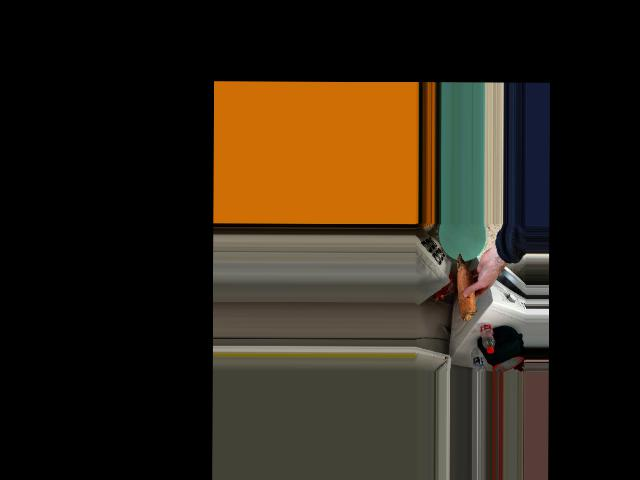sweet_potato: (457, 256, 477, 320)
